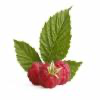Raspberry leaf: (40, 4, 73, 65), (13, 38, 43, 72)
